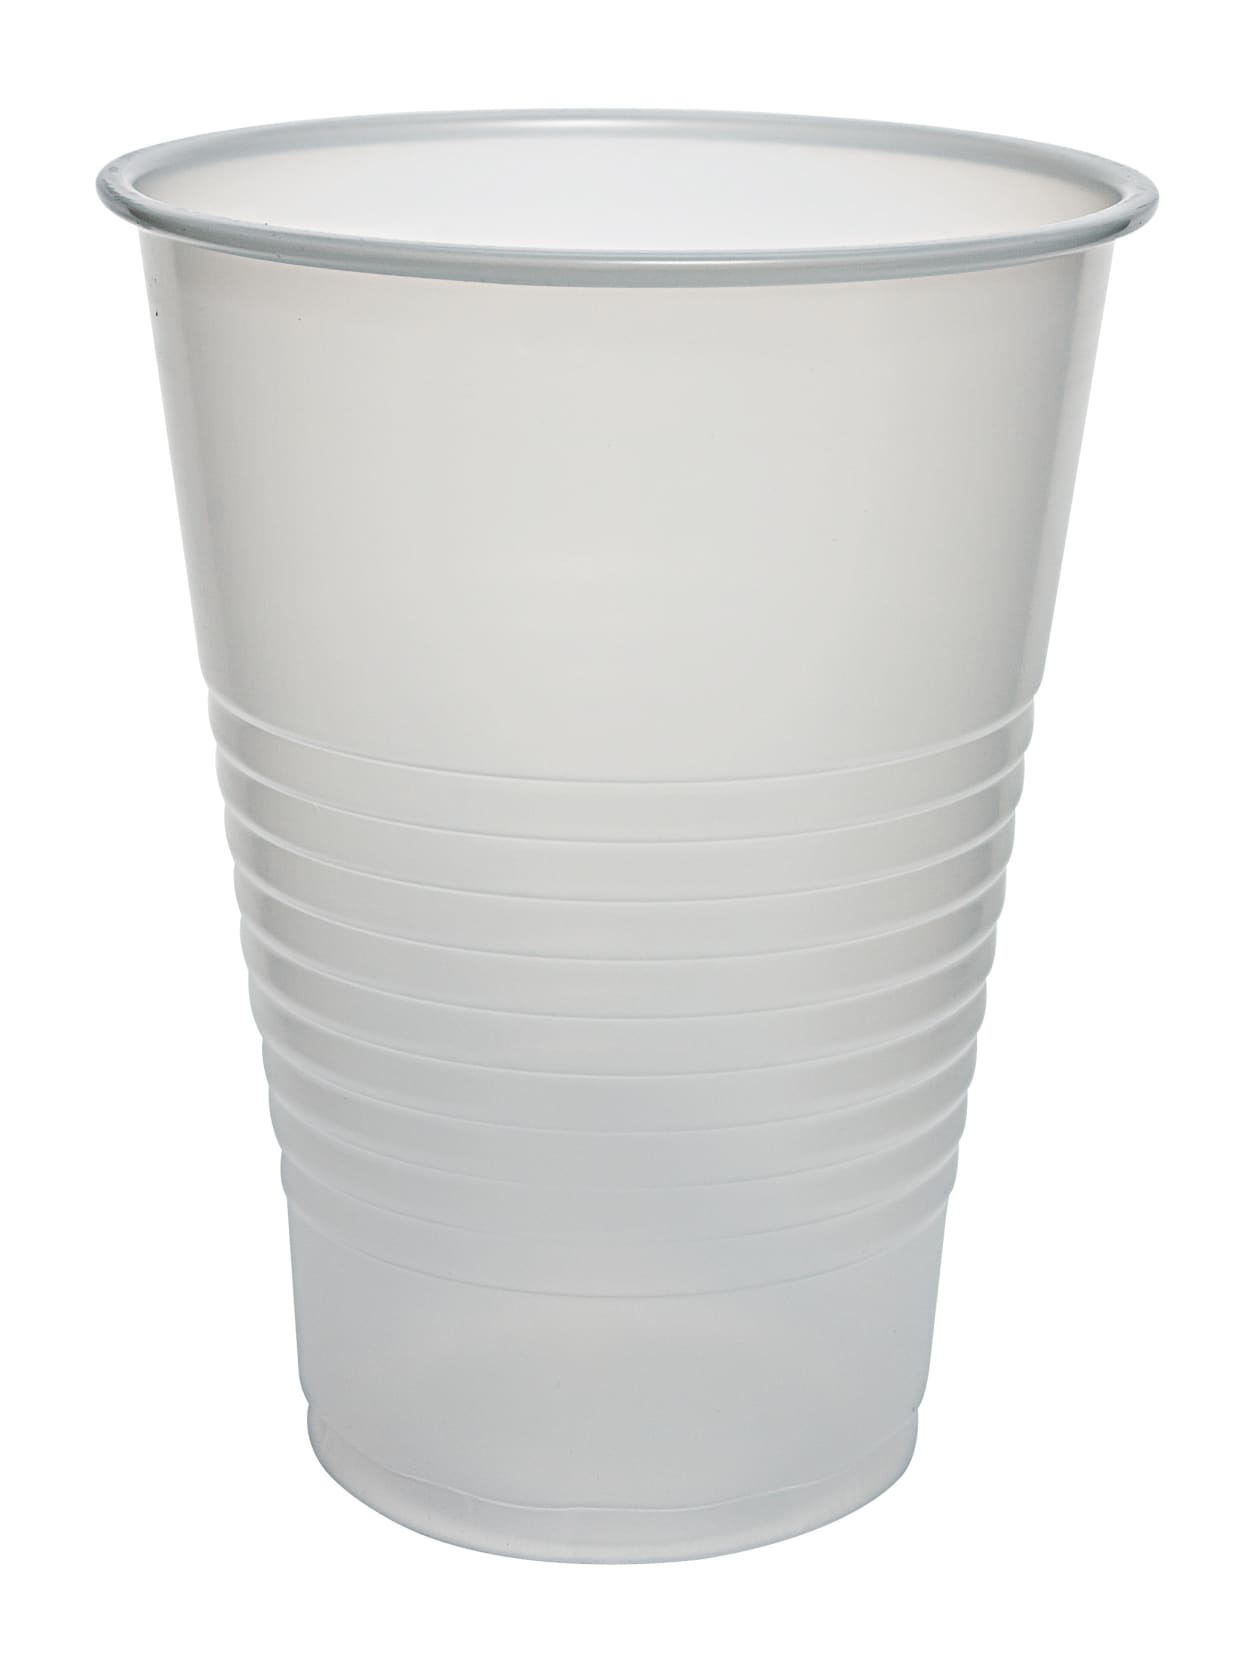plastic_bottle: (74, 91, 1195, 1580)
